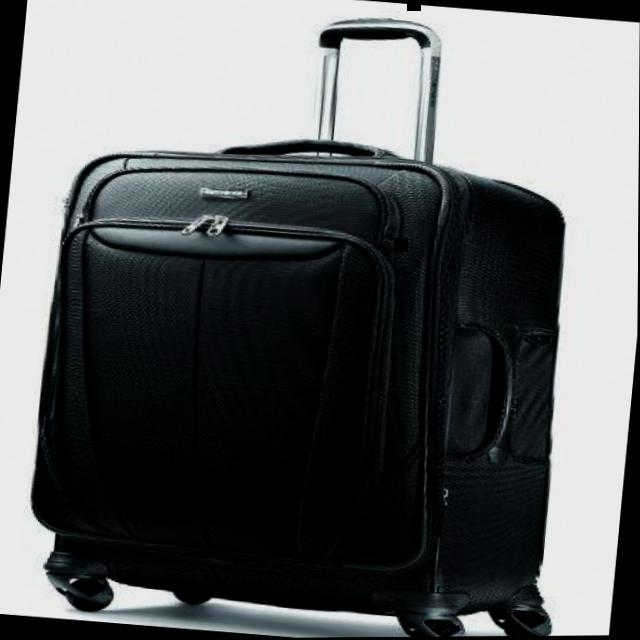luggage: (6, 108, 604, 640)
